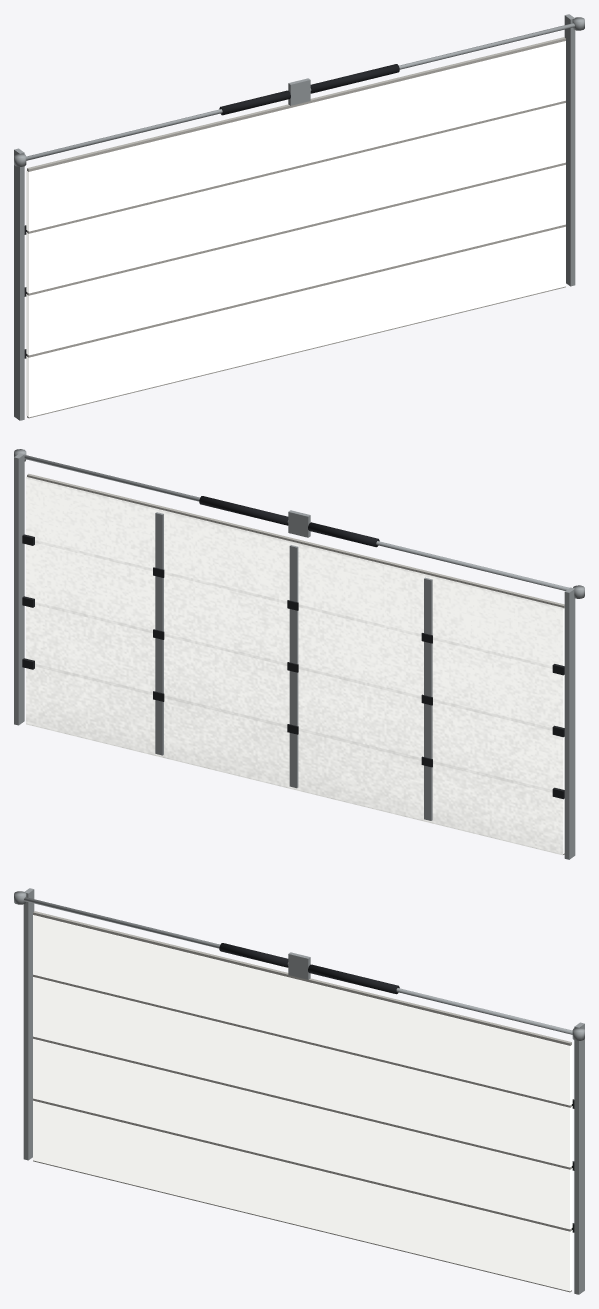
File: garage_door_panel.glb
3 views of the same model, one above another, from view 1: azimuth 30°, elevation 25°; view 2: azimuth 150°, elevation 25°; view 3: azimuth 330°, elevation 25° (orthographic).
Parts seen in each view (by area): view 1: root; view 2: root; view 3: root.
Part boxes in pixels (x1,y1,x2,y2): root: (14, 14, 584, 420); root: (14, 449, 584, 859); root: (14, 888, 584, 1294).
Size of the model in its own units: 5.17 by 2.37 by 0.1683.
6 materials, 1 textured.
